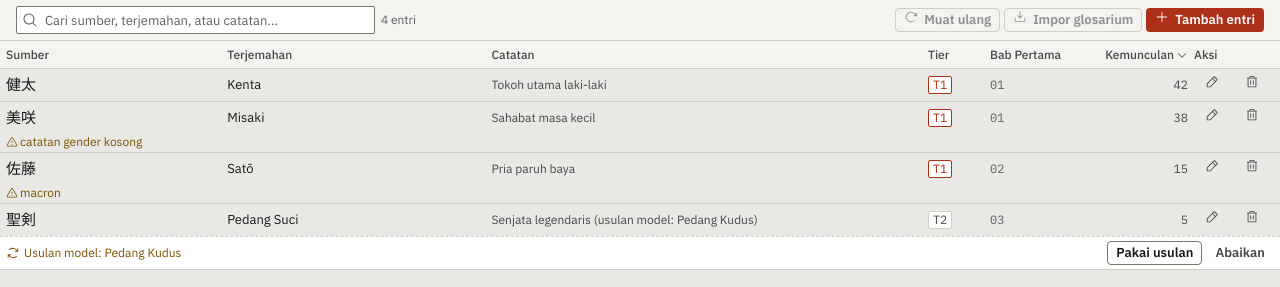
GlossaryTab › renders table header and rows, filterable via search input
Expected: the text "美咲" is shown, 6,109 -> 36,126
Expected: the text "健太" is shown, 6,76 -> 36,93
Type "Misaki" into the search field at point(195, 20), box 16,6 -> 375,34
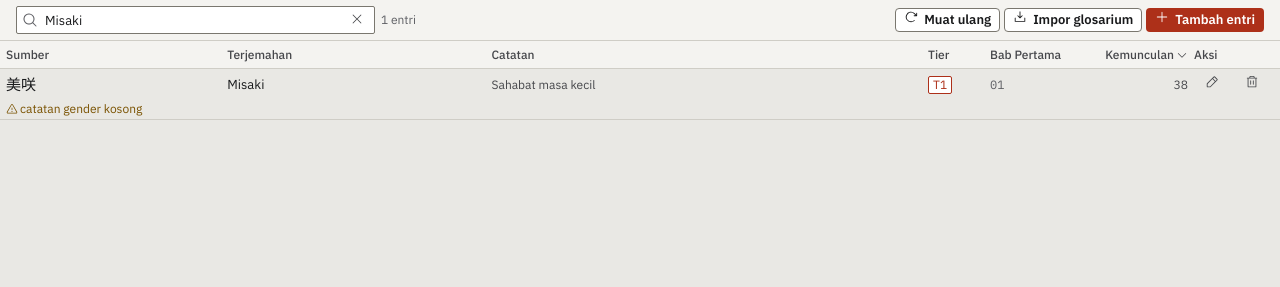
Expected: the text "美咲" is shown, 6,76 -> 36,93
Expected: the text "健太" is gone
